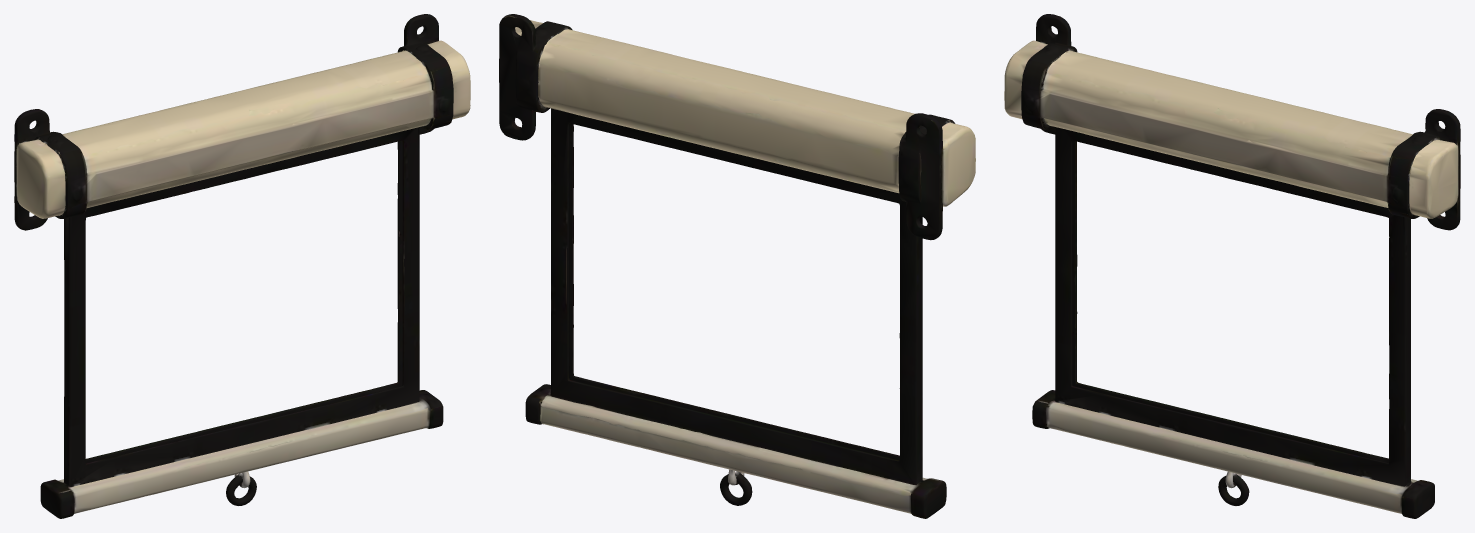
File: projector_screen.glb
The picture shows the model from 3 angles, left to right: view 1: azimuth 30°, elevation 25°; view 2: azimuth 150°, elevation 25°; view 3: azimuth 330°, elevation 25°; orthographic projection. The views are drawn at different scales.
Visible parts, largest first — view 1: geometry_0; view 2: geometry_0; view 3: geometry_0.
Part boxes in pixels (x1,y1,x2,y2): geometry_0: [14, 14, 470, 518]; geometry_0: [499, 14, 975, 518]; geometry_0: [1004, 14, 1460, 518].
Bounding box in the file's own units: 1 × 0.9703 × 0.1592.
1 material, 1 textured.
